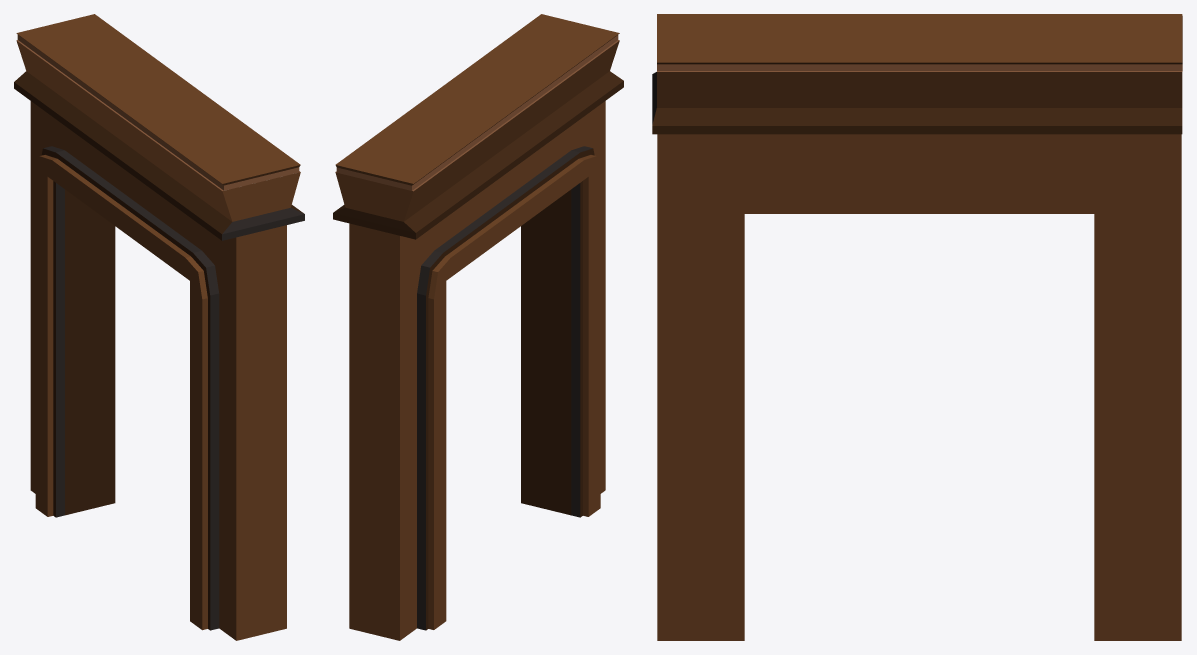
Rendered from muur_aleen_inbetween.fbx.
3 views of the same model, side by side, from view 1: azimuth 30°, elevation 25°; view 2: azimuth 150°, elevation 25°; view 3: azimuth 270°, elevation 25° (orthographic). The views are drawn at different scales.
Parts seen in each view (by area): view 1: pCube13, main_closet1; view 2: pCube13, main_closet1; view 3: pCube13, main_closet1.
Boxes of the visible parts, <box> form: pCube13: <box>30,101,286,640</box>; main_closet1: <box>14,14,304,240</box>; pCube13: <box>349,101,605,640</box>; main_closet1: <box>333,14,623,239</box>; pCube13: <box>657,134,1181,640</box>; main_closet1: <box>652,14,1182,134</box>.
Bounding box in the file's own units: 2.75 × 14.6 × 11.97.
